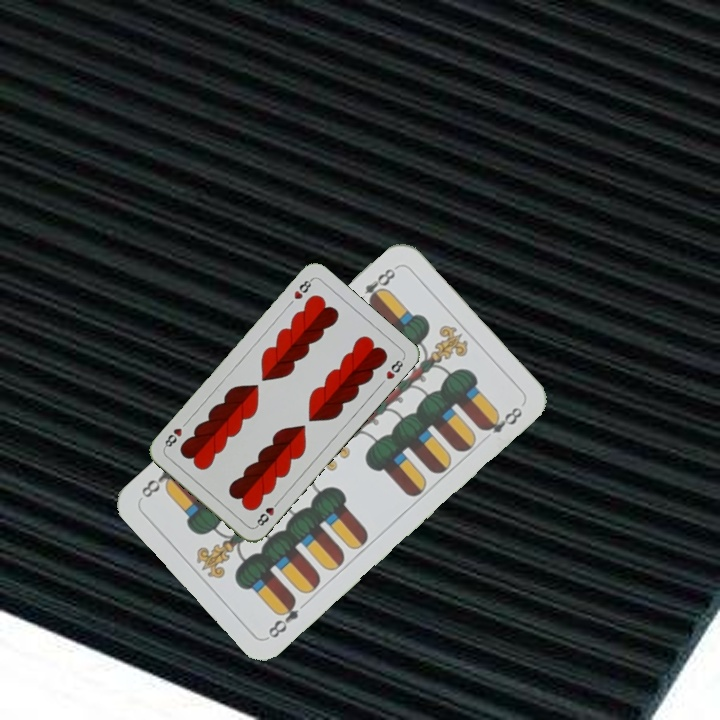E8: (351, 263, 400, 308), (264, 593, 302, 641)
H8: (252, 496, 282, 530), (290, 275, 315, 302)
